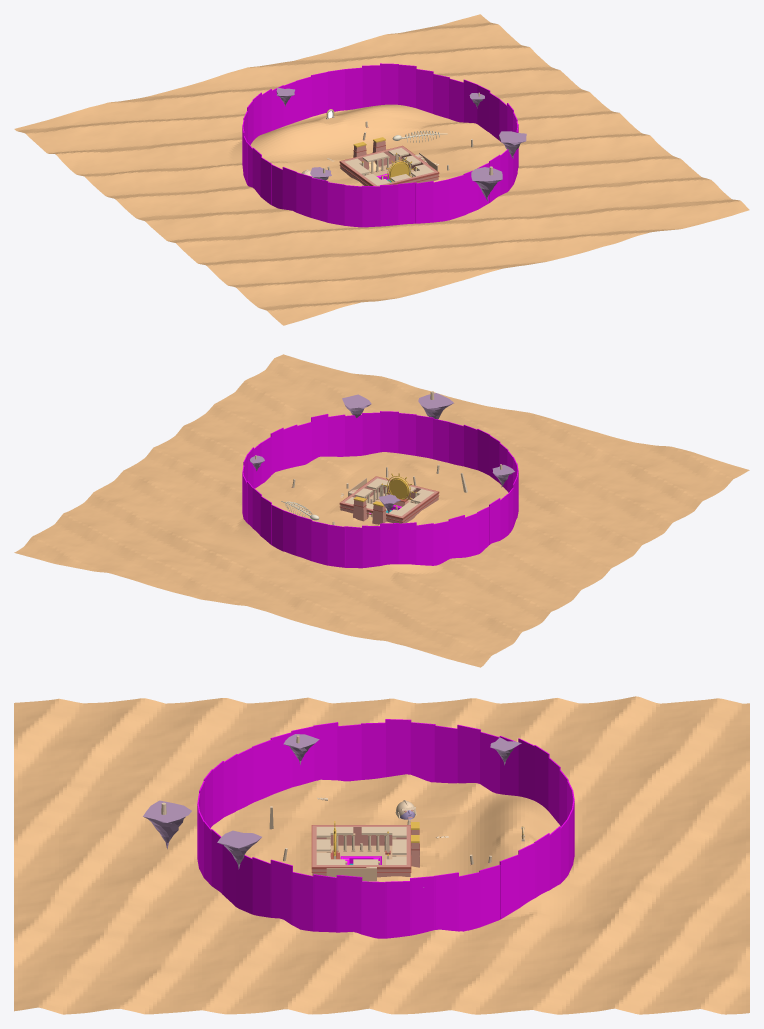
The model's file is temple.draco.glb.
3 views of the same model, one above another, from view 1: azimuth 30°, elevation 25°; view 2: azimuth 150°, elevation 25°; view 3: azimuth 270°, elevation 25° (orthographic). The views are drawn at different scales.
Visible parts, largest first — view 1: terrain_land, col_bounds, temple_walls, temple_roof, float_rock_4; view 2: terrain_land, col_bounds, temple_walls, temple_roof, temple_pylons, float_rock_4, temple_sundisc; view 3: terrain_land, col_bounds, temple_walls, temple_roof, float_rock_4, float_rock_1, terrain_floor.
Part boxes in pixels (box(x1,y1,x2,y2)): terrain_land: box(14, 14, 749, 325); col_bounds: box(242, 63, 518, 227); temple_walls: box(339, 145, 439, 186); temple_roof: box(345, 148, 433, 185); float_rock_4: box(471, 166, 502, 201); terrain_land: box(14, 354, 749, 667); col_bounds: box(242, 411, 518, 568); temple_walls: box(339, 476, 439, 523); temple_roof: box(345, 478, 433, 516); temple_pylons: box(353, 496, 386, 524); float_rock_4: box(418, 391, 453, 419); temple_sundisc: box(384, 473, 414, 506); terrain_land: box(14, 696, 749, 1014); col_bounds: box(197, 719, 574, 938); temple_walls: box(311, 825, 411, 877); temple_roof: box(316, 827, 406, 864); float_rock_4: box(143, 800, 191, 849); float_rock_1: box(217, 830, 261, 869); terrain_floor: box(316, 845, 406, 864).
Bounding box in the file's own units: 360 × 73.33 × 360.
